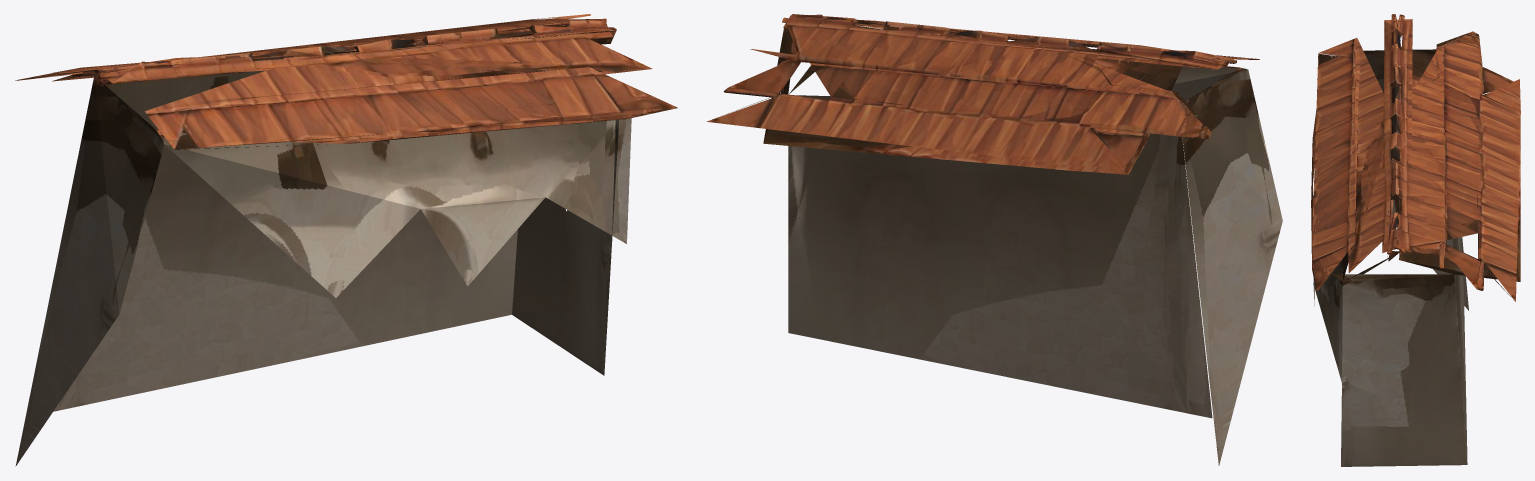
File: act1_kit_v1_cloister_bay.glb
3 renders of one model, left to right at view 1: azimuth 30°, elevation 25°; view 2: azimuth 150°, elevation 25°; view 3: azimuth 270°, elevation 25°, orthographic. The views are drawn at different scales.
Visible parts, largest first — view 1: A11_1_cloister_bay; view 2: A11_1_cloister_bay; view 3: A11_1_cloister_bay.
Boxes of the visible parts, x1,y1,x2,y2 form: A11_1_cloister_bay: [15, 14, 677, 466]; A11_1_cloister_bay: [707, 14, 1282, 465]; A11_1_cloister_bay: [1311, 14, 1520, 466].
Size of the model in its own units: 0.9568 by 0.6919 by 0.4243.
Materials: 1 (1 with a texture image).
